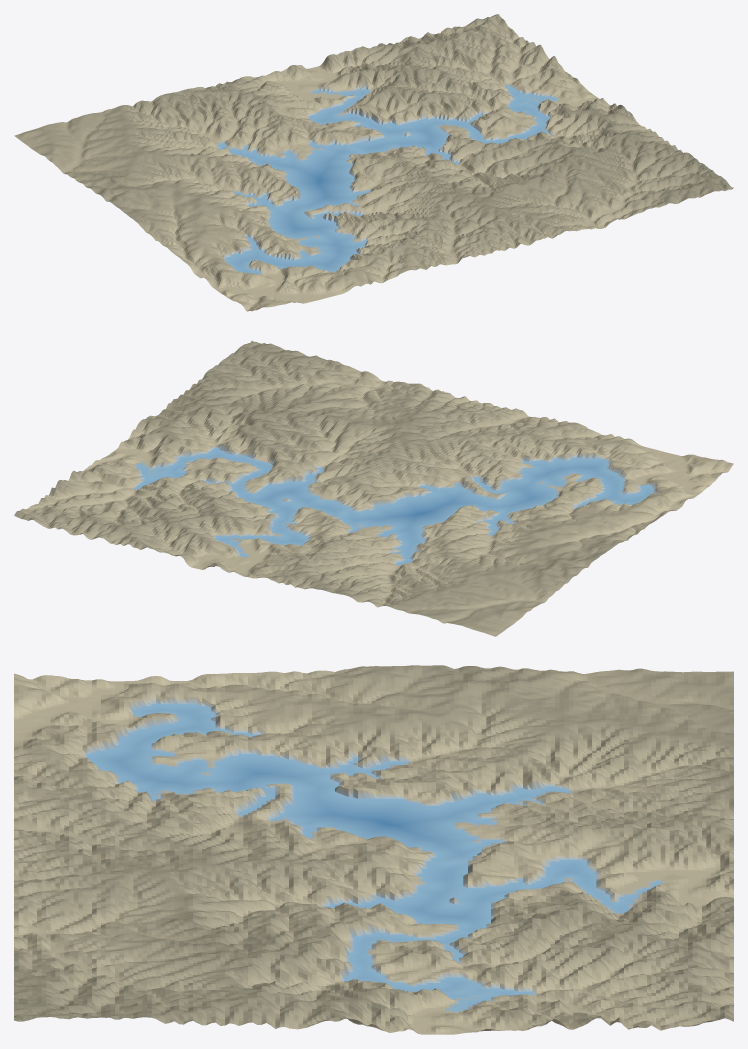
Rendered from lake_monroe_in.glb.
3 renders of one model, top to bottom at view 1: azimuth 30°, elevation 25°; view 2: azimuth 150°, elevation 25°; view 3: azimuth 270°, elevation 25°, orthographic. The views are drawn at different scales.
Visible parts, largest first — view 1: terrain, water; view 2: terrain, water; view 3: terrain, water.
Boxes of the visible parts, x1=… form: terrain: x1=14, y1=14, x2=733, y2=311; water: x1=218, y1=84, x2=559, y2=274; terrain: x1=14, y1=340, x2=733, y2=636; water: x1=133, y1=448, x2=654, y2=564; terrain: x1=14, y1=665, x2=733, y2=1034; water: x1=87, y1=704, x2=660, y2=1011.
Bounding box in the file's own units: 19954 × 569 × 17076.
